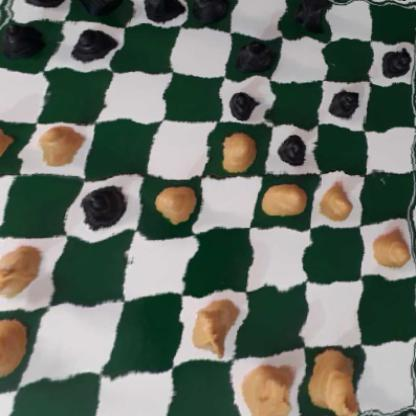black-bishop: (232, 34, 276, 76), (138, 0, 188, 24)
black-king: (186, 0, 233, 27)
black-knight: (69, 0, 127, 19)
black-pawn: (74, 180, 138, 224), (0, 18, 53, 60), (60, 27, 117, 63), (325, 84, 363, 122), (275, 131, 314, 167), (222, 84, 262, 118), (379, 46, 412, 84)
black-rook: (286, 0, 334, 37), (1, 0, 77, 10)
white-bishop: (0, 317, 35, 391)
white-king: (304, 344, 364, 416)
white-knight: (176, 296, 242, 365), (0, 243, 50, 302)
white-pawn: (208, 131, 262, 172), (31, 128, 87, 166), (148, 184, 197, 227), (367, 225, 412, 271), (259, 182, 307, 223), (313, 179, 359, 221), (0, 128, 20, 164)
white-rook: (236, 358, 299, 416)
